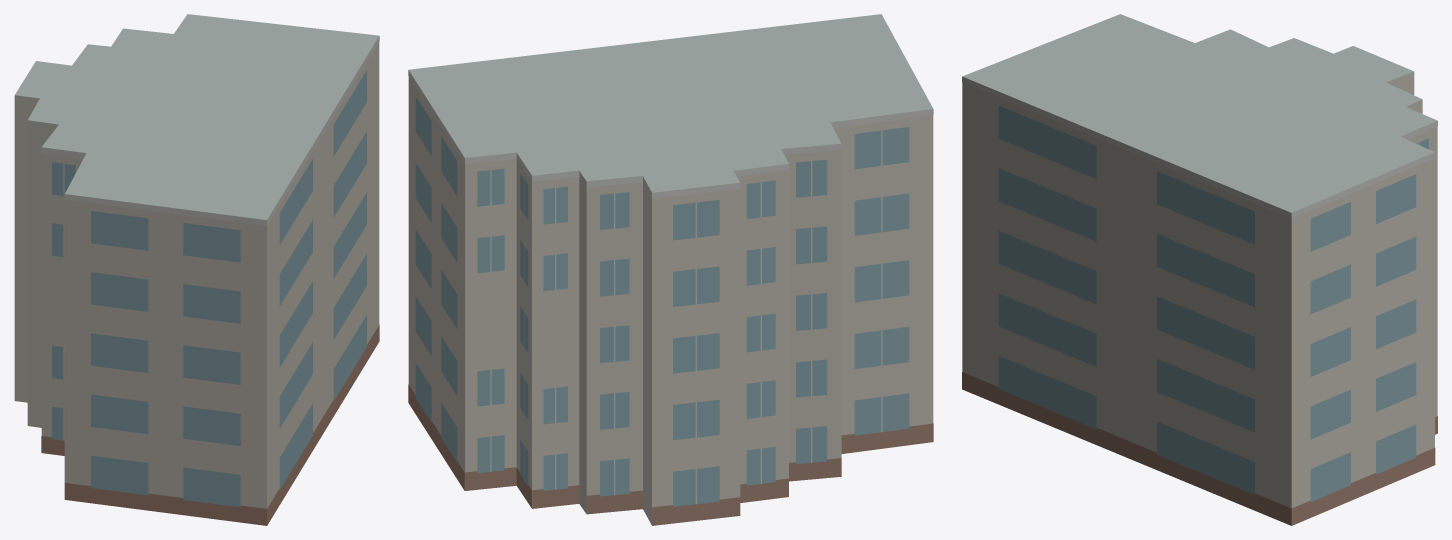
Rendered from survey-upis-32731358.glb.
3 views of the same model, side by side, from view 1: azimuth 30°, elevation 25°; view 2: azimuth 150°, elevation 25°; view 3: azimuth 270°, elevation 25° (orthographic). The views are drawn at different scales.
Visible parts, largest first — view 1: survey-upis-32731358.tmp; view 2: survey-upis-32731358.tmp; view 3: survey-upis-32731358.tmp.
Part boxes in pixels (left/top/right/bottom): survey-upis-32731358.tmp: left=14, top=14, right=379, bottom=525; survey-upis-32731358.tmp: left=408, top=14, right=933, bottom=525; survey-upis-32731358.tmp: left=962, top=14, right=1437, bottom=525.
Size of the model in its own units: 17.87 by 13.1 by 18.05.
